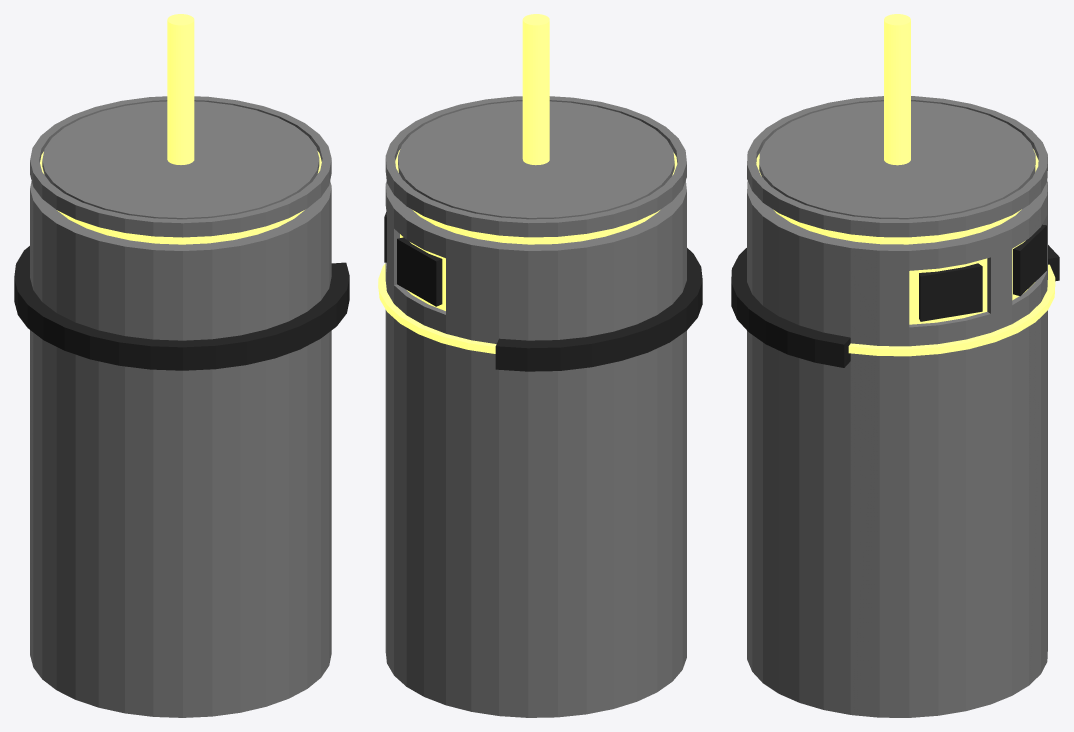
Rendered from newstand.fbx.
3 renders of one model, left to right at view 1: azimuth 30°, elevation 25°; view 2: azimuth 150°, elevation 25°; view 3: azimuth 270°, elevation 25°, orthographic.
Visible parts, largest first — view 1: Stand; view 2: Stand; view 3: Stand.
Boxes of the visible parts, x1,y1,x2,y2 form: Stand: (14,14,349,717); Stand: (378,14,702,717); Stand: (731,14,1059,717).
Bounding box in the file's own units: 216 × 464 × 218.
